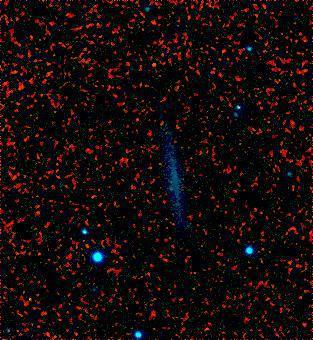star: (139, 51, 169, 81)
